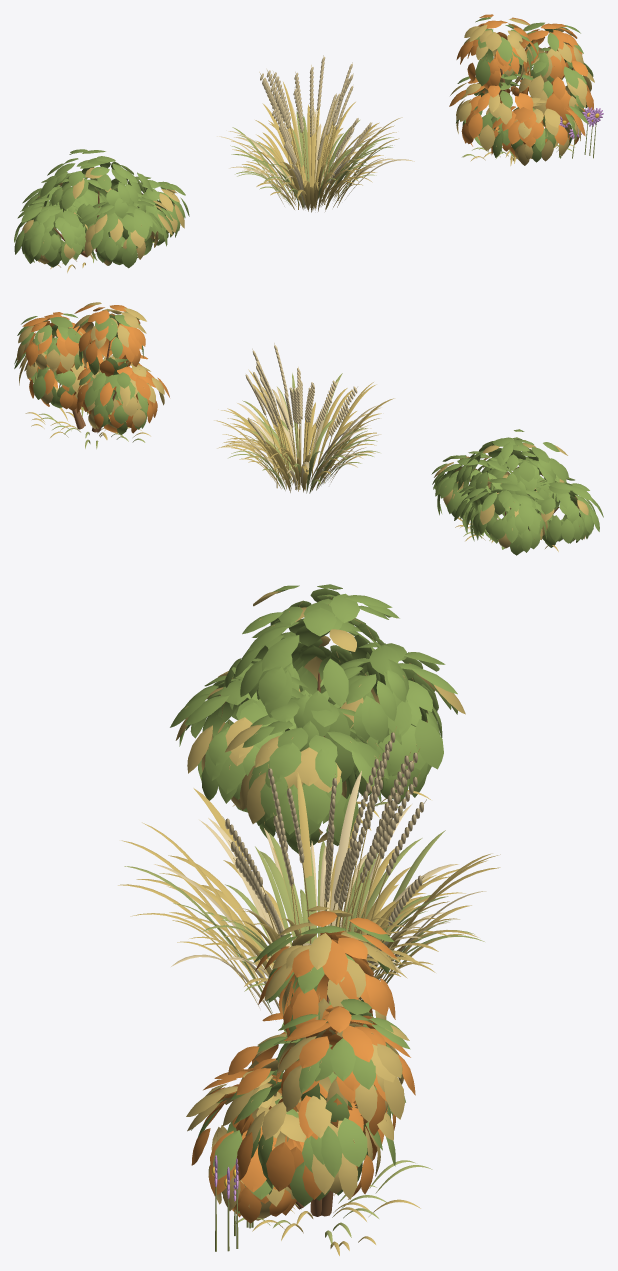
File: autumn_vegetation_set.glb
The picture shows the model from 3 angles, top to bottom: view 1: azimuth 30°, elevation 25°; view 2: azimuth 150°, elevation 25°; view 3: azimuth 270°, elevation 25°; orthographic projection. The views are drawn at different scales.
Visible parts, largest first — view 1: Autumn_Flowering_Shrub, Green_Shrub, Golden_Grass; view 2: Autumn_Flowering_Shrub, Green_Shrub, Golden_Grass; view 3: Autumn_Flowering_Shrub, Green_Shrub, Golden_Grass.
Boxes of the visible parts, bbox=[...] form: Autumn_Flowering_Shrub: bbox=[449, 14, 603, 165]; Green_Shrub: bbox=[14, 149, 189, 272]; Golden_Grass: bbox=[217, 55, 414, 212]; Autumn_Flowering_Shrub: bbox=[14, 302, 169, 449]; Green_Shrub: bbox=[431, 429, 603, 555]; Golden_Grass: bbox=[214, 343, 394, 493]; Autumn_Flowering_Shrub: bbox=[186, 906, 432, 1255]; Green_Shrub: bbox=[170, 584, 465, 853]; Golden_Grass: bbox=[118, 726, 500, 1020].
Bounding box in the file's own units: 6.86 × 1.52 × 1.98.
